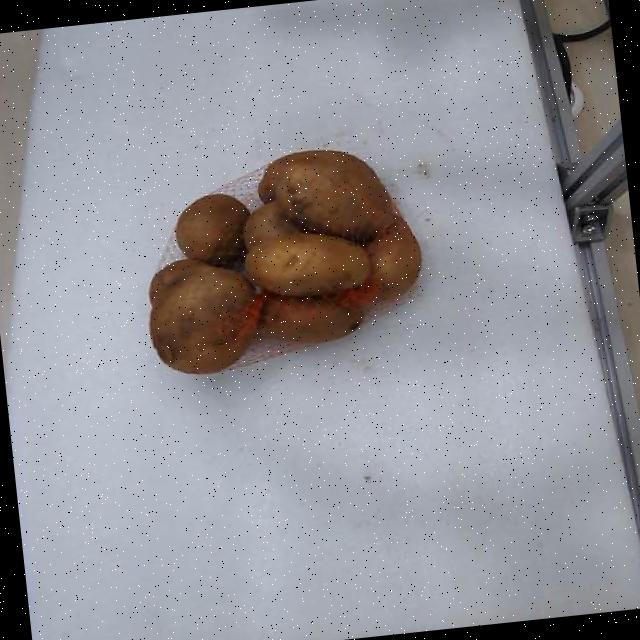potato: (149, 257, 261, 373), (259, 149, 395, 241), (245, 231, 370, 295), (174, 193, 247, 263), (258, 293, 362, 341), (366, 217, 420, 299), (244, 201, 301, 248)
